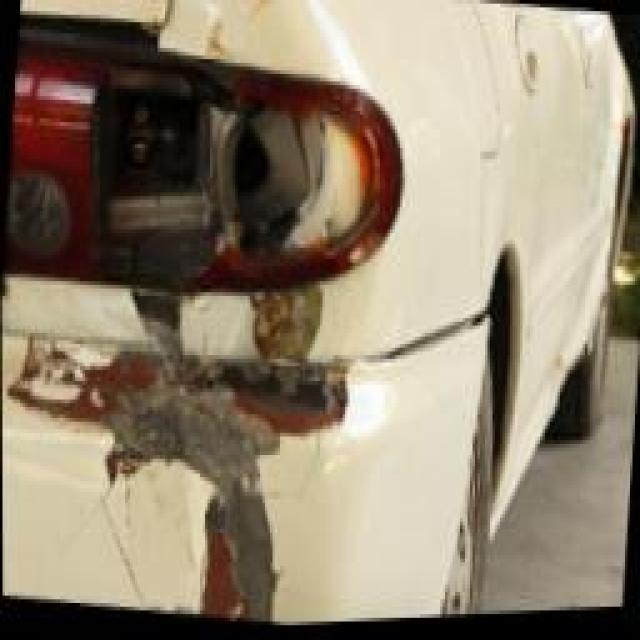Bumper: (2, 318, 346, 640)
Fender: (228, 266, 365, 376)
Light: (2, 15, 399, 335)
